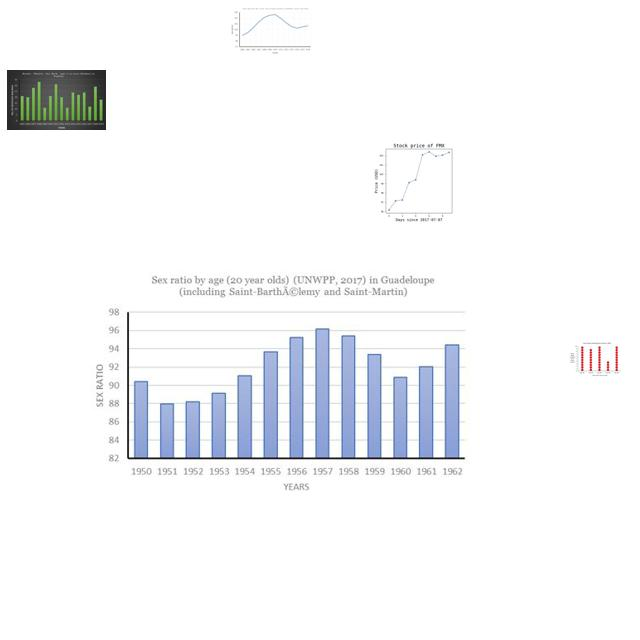Graph: (84, 271, 472, 497), (357, 139, 478, 222), (7, 70, 106, 130), (229, 6, 312, 56), (569, 342, 621, 377)
